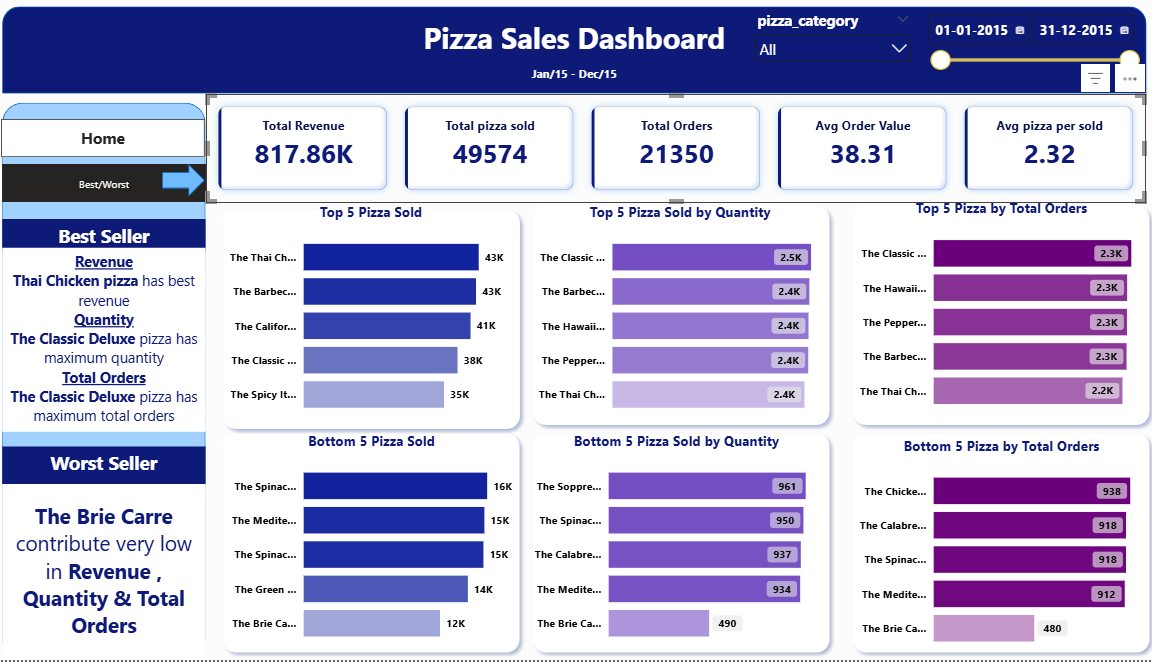

The page's visual inventory and layout, read from the dashboard file:
{"tool":"powerbi","page":{"name":"Best/Worst","canvas":[1500,850],"ordinal":1},"visuals":[{"type":"cardVisual","fields":{"Data":["pizza_sales.Total Revenue","pizza_sales.Total pizza sold","pizza_sales.Total Orders","pizza_sales.Avg Order Value","pizza_sales.Avg pizza per sold"]},"box":[276.3,121.8,1209.9,140.3],"z":0},{"type":"shape","box":[289.3,262.9,400,300],"z":1000},{"type":"shape","box":[14.2,9.9,1472,111.9],"z":2000},{"type":"textbox","box":[14.2,19.8,1472,60.9],"z":3000},{"type":"textbox","box":[14.2,80.8,1472,41.1],"z":4000},{"type":"shape","box":[14.7,133.6,261.4,716.7],"z":5000},{"type":"textbox","box":[14.7,283.4,261.4,42.6],"z":6000},{"type":"textbox","box":[14.7,320.1,261.4,236.4],"z":7000},{"type":"textbox","box":[14.7,575.7,261.4,48.5],"z":8000},{"type":"textbox","box":[14.7,624.1,261.4,226.2],"z":9000},{"type":"shape","box":[289.3,550.7,399.4,299.6],"z":10000},{"type":"shape","box":[688.8,257,399.4,299.6],"z":11000},{"type":"shape","box":[1100,257,399.4,299.6],"z":12000},{"type":"shape","box":[688.8,550.7,399.4,299.6],"z":13000},{"type":"shape","box":[1100,550.7,399.4,299.6],"z":14000},{"type":"barChart","title":"Top 5 Pizza Sold","fields":{"Y":["pizza_sales.Total Revenue"],"Category":["pizza_sales.pizza_name"]},"box":[289.3,262.9,399.4,287.8],"z":15000},{"type":"barChart","title":"Bottom 5 Pizza Sold","fields":{"Y":["pizza_sales.Total Revenue"],"Category":["pizza_sales.pizza_name"]},"box":[289.5,556.4,400.4,287.8],"z":16000},{"type":"barChart","title":"Top 5 Pizza Sold by Quantity","fields":{"Category":["pizza_sales.pizza_name"],"Y":["Sum(pizza_sales.quantity)"]},"box":[686.6,262.1,400.4,287.8],"z":17000},{"type":"barChart","title":"Bottom 5 Pizza Sold by Quantity","fields":{"Category":["pizza_sales.pizza_name"],"Y":["Sum(pizza_sales.quantity)"]},"box":[681.8,556.4,400.4,287.8],"z":18000},{"type":"barChart","title":"Top 5 Pizza by Total Orders","fields":{"Category":["pizza_sales.pizza_name"],"Y":["pizza_sales.Total Orders"]},"box":[1099.9,257.3,400.4,287.8],"z":19000},{"type":"barChart","title":"Bottom 5 Pizza by Total Orders","fields":{"Category":["pizza_sales.pizza_name"],"Y":["pizza_sales.Total Orders"]},"box":[1099.9,562.8,400.4,287.8],"z":20000},{"type":"pageNavigator","box":[12.9,154.4,262.1,49.9],"z":20001},{"type":"pageNavigator","box":[14.5,212.3,262.1,49.9],"z":20002},{"type":"shape","box":[220.3,212.3,54.7,41.8],"z":20003},{"type":"slicer","fields":{"Values":["pizza_sales.pizza_category"]},"box":[972.9,9.6,220.3,112.6],"z":20004},{"type":"slicer","fields":{"Values":["pizza_sales.order_date"]},"box":[1193.2,9.6,292.7,112.6],"z":20005}]}

Visuals, with their boxes in screenshot pixels (x1, y1, x2, y2), scaled from the page's 1500x850 canvas onto the 1152x666 screenshot:
cardVisual - pizza_sales.Total Revenue x pizza_sales.Total pizza sold: [212,95,1141,205]
shape: [222,206,529,441]
shape: [11,8,1141,95]
textbox: [11,16,1141,63]
textbox: [11,63,1141,96]
shape: [11,105,212,665]
textbox: [11,222,212,255]
textbox: [11,251,212,436]
textbox: [11,451,212,489]
textbox: [11,489,212,665]
shape: [222,431,529,665]
shape: [529,201,836,436]
shape: [845,201,1151,436]
shape: [529,431,836,665]
shape: [845,431,1151,665]
"Top 5 Pizza Sold" barChart: [222,206,529,431]
"Bottom 5 Pizza Sold" barChart: [222,436,530,661]
"Top 5 Pizza Sold by Quantity" barChart: [527,205,835,431]
"Bottom 5 Pizza Sold by Quantity" barChart: [524,436,831,661]
"Top 5 Pizza by Total Orders" barChart: [845,202,1151,427]
"Bottom 5 Pizza by Total Orders" barChart: [845,441,1151,665]
pageNavigator: [10,121,211,160]
pageNavigator: [11,166,212,205]
shape: [169,166,211,199]
slicer - pizza_sales.pizza_category: [747,8,916,96]
slicer - pizza_sales.order_date: [916,8,1141,96]
